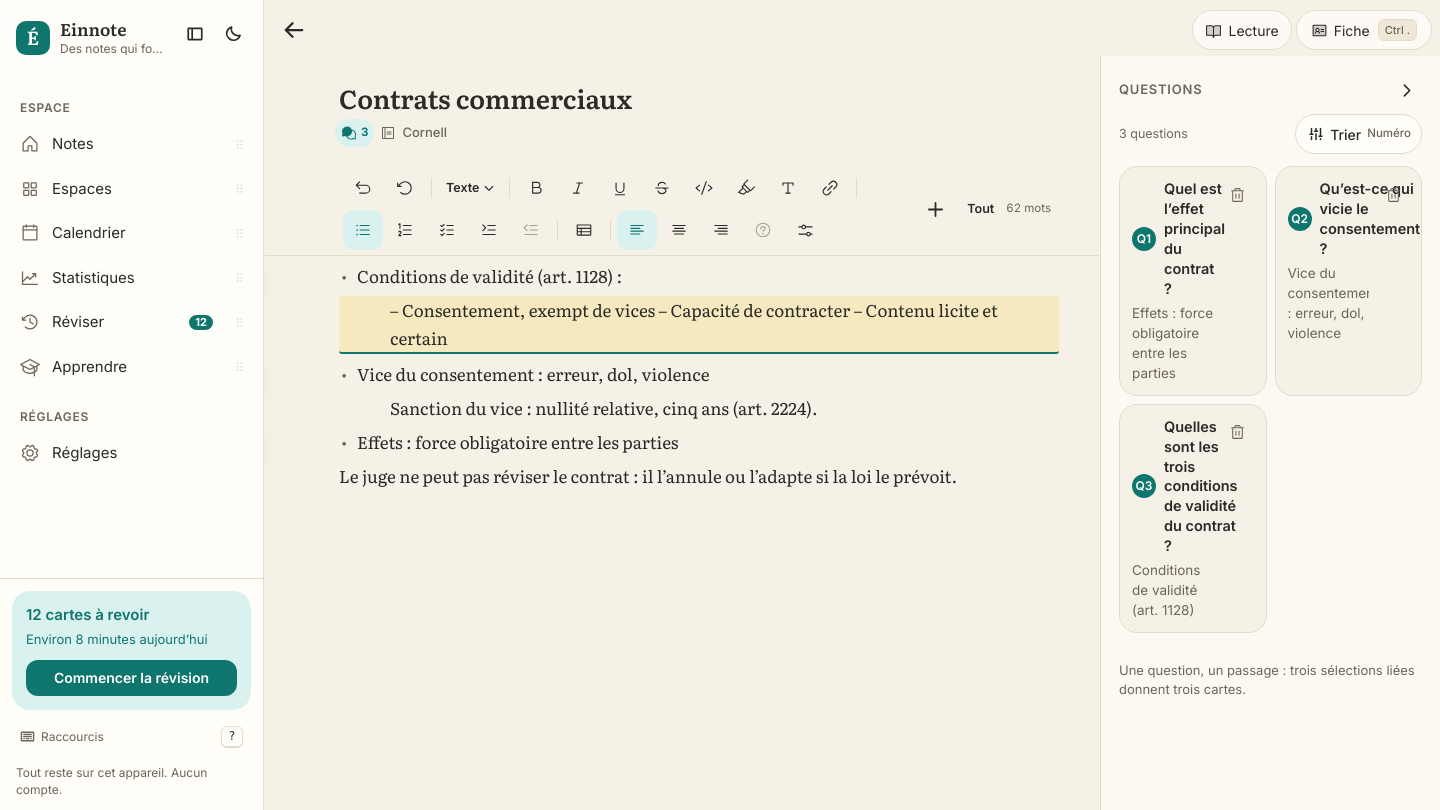
Test case: étiquettes — le menu de # › ne propose que ce qui correspond à ce qu’on tape
Click the text box named "Contenu de la note": (699, 376) x1=339 y1=262 x2=1059 y2=490
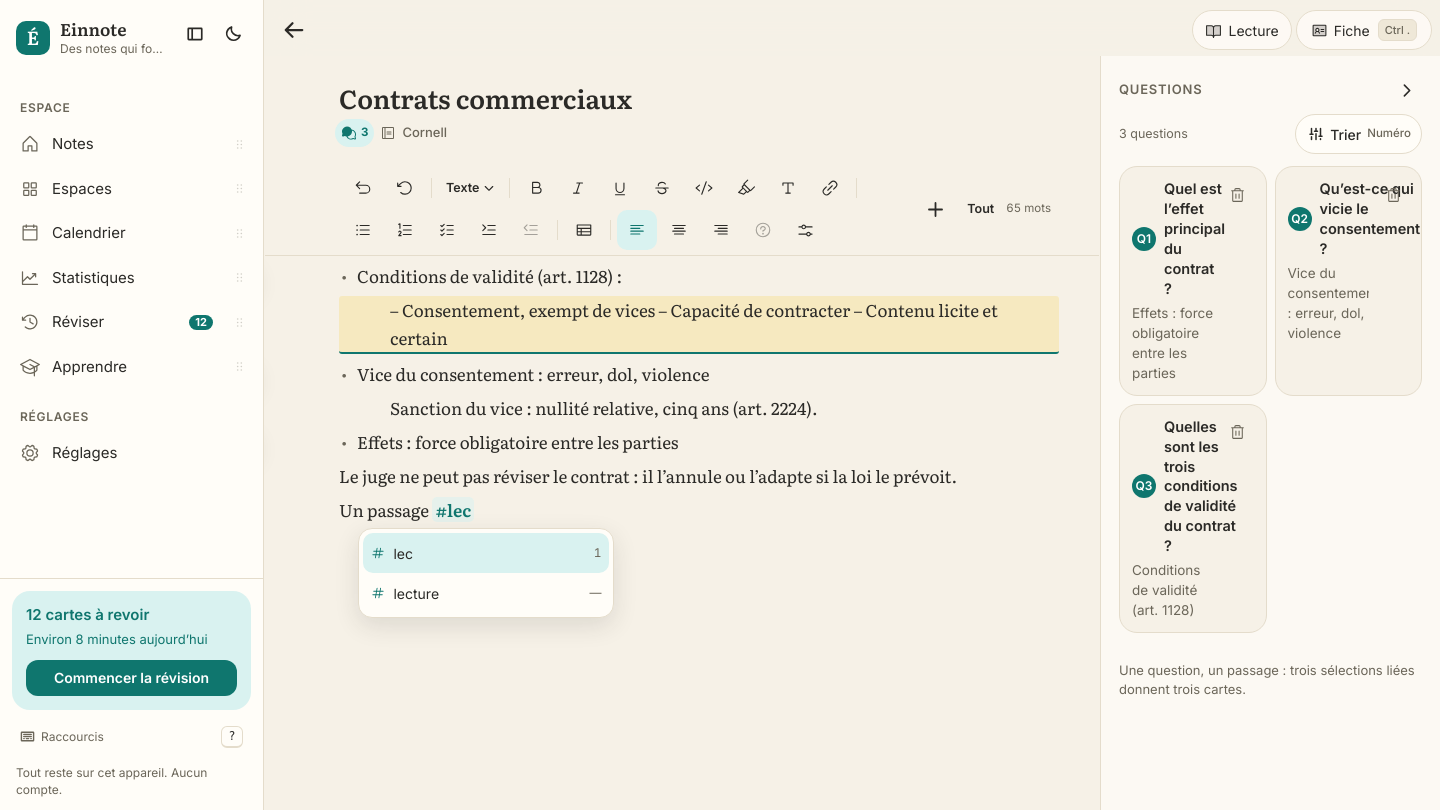
Expected: the option "lecture —" is shown, x1=363 y1=573 x2=609 y2=613
